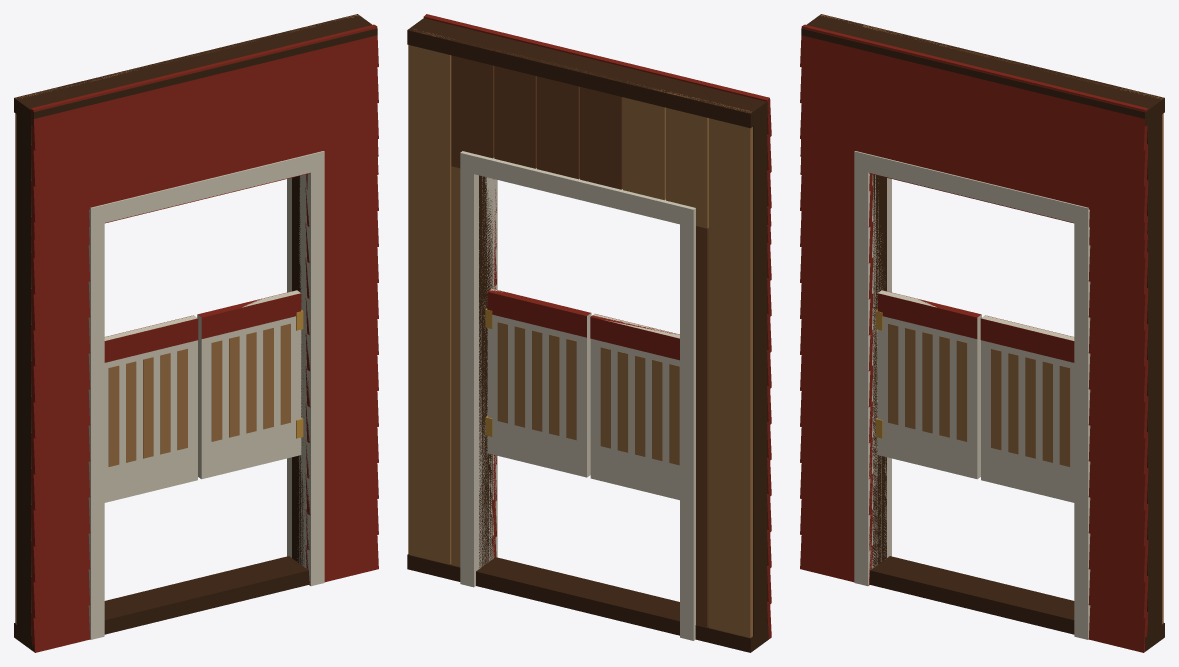
File: SM_Wall_Plank_SwingDoors.obj
The picture shows the model from 3 angles, left to right: view 1: azimuth 30°, elevation 25°; view 2: azimuth 150°, elevation 25°; view 3: azimuth 330°, elevation 25°; orthographic projection.
Parts seen in each view (by area): view 1: SM_Wall_Plank_SwingDoors; view 2: SM_Wall_Plank_SwingDoors; view 3: SM_Wall_Plank_SwingDoors.
Part boxes in pixels (left/top/right/bottom): SM_Wall_Plank_SwingDoors: left=14, top=14, right=378, bottom=652; SM_Wall_Plank_SwingDoors: left=407, top=14, right=771, bottom=652; SM_Wall_Plank_SwingDoors: left=800, top=14, right=1164, bottom=652.
Bounding box in the file's own units: 2 × 3.01 × 0.24.
